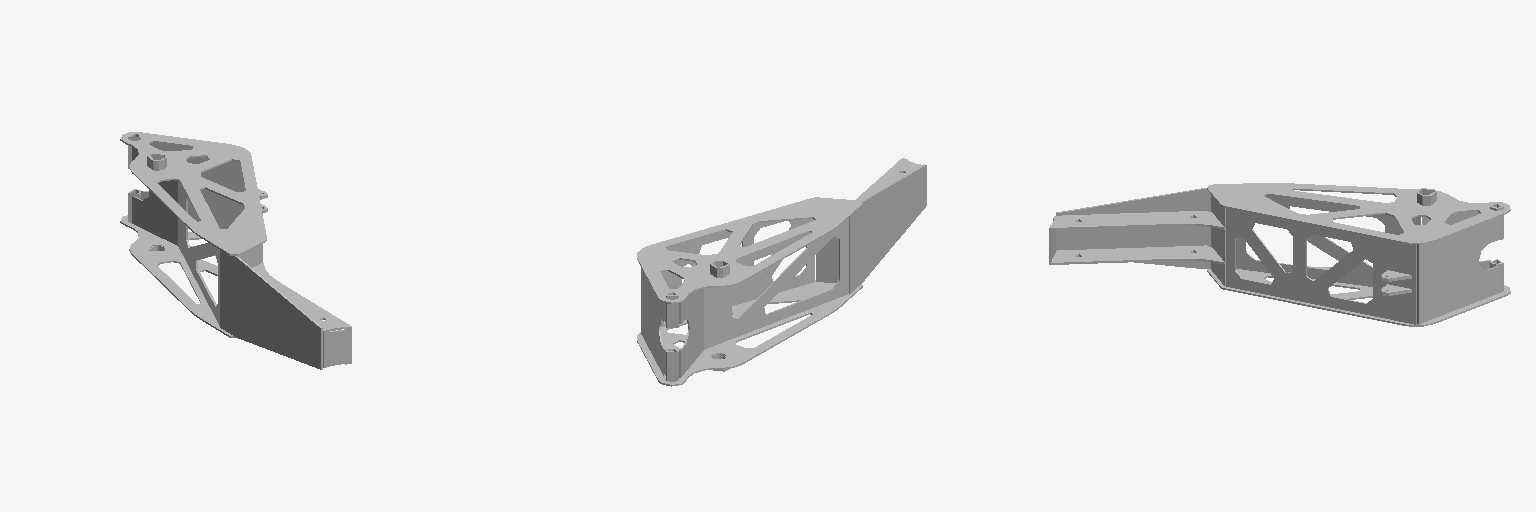
Rendered from Calf.obj.
3 renders of one model, left to right at view 1: azimuth 30°, elevation 25°; view 2: azimuth 150°, elevation 25°; view 3: azimuth 270°, elevation 25°, orthographic.
Parts seen in each view (by area): view 1: mesh 1; view 2: mesh 1; view 3: mesh 1.
Boxes of the visible parts, box(x1,y1,x2,y2) form: mesh 1: box(120, 132, 351, 369); mesh 1: box(637, 158, 926, 386); mesh 1: box(1049, 183, 1510, 326).
Bounding box in the file's own units: 0.01 × 0.0077 × 0.031.